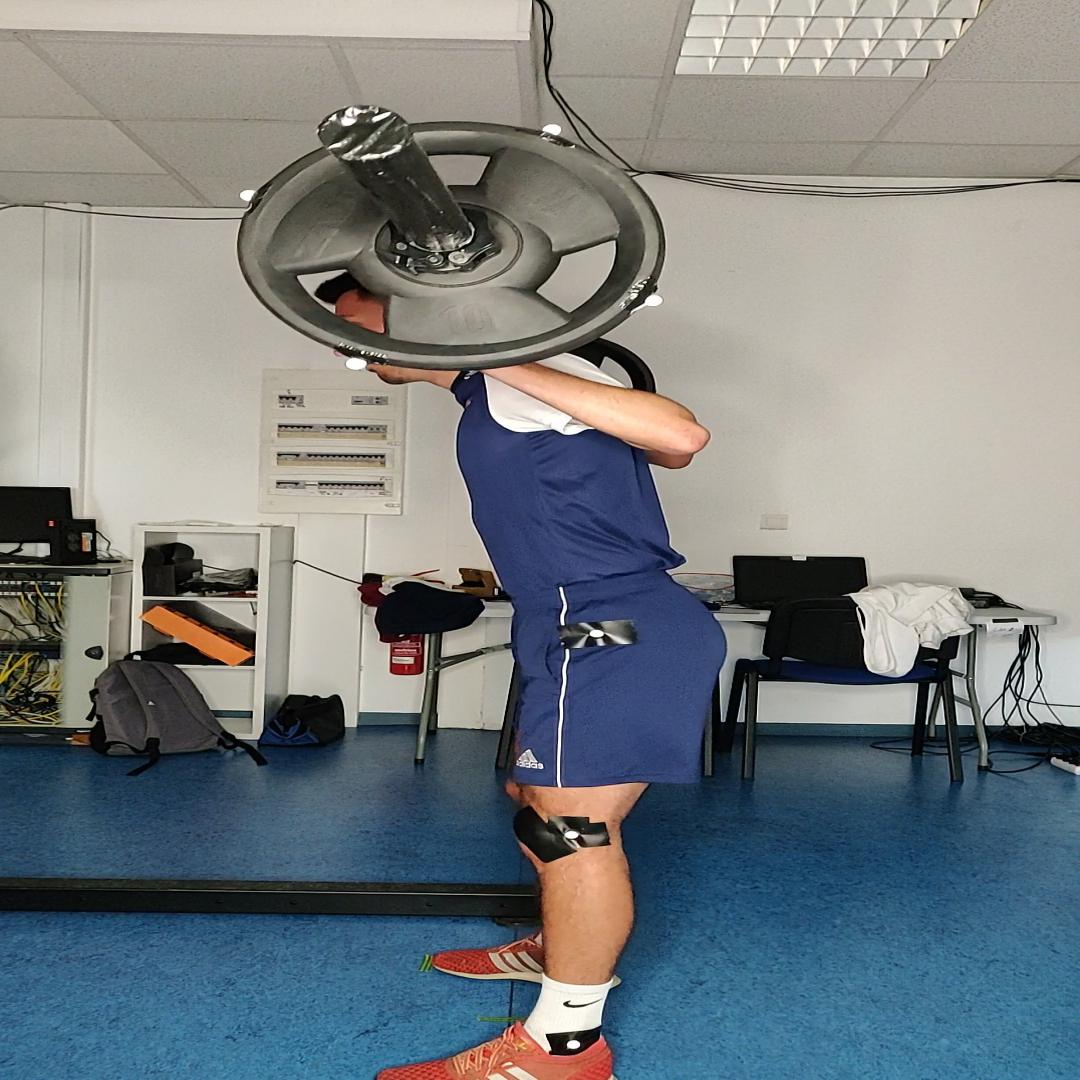Bar: (318, 106, 412, 161)
Barbell: (238, 121, 665, 370)
